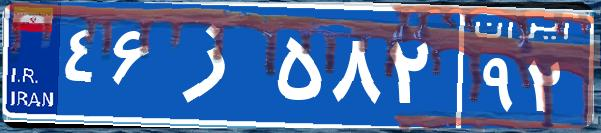2: (385, 28, 445, 110), (525, 38, 570, 115)
4: (57, 26, 110, 107)
5: (273, 28, 330, 110)
6: (110, 28, 158, 105)
8: (330, 28, 385, 110)
9: (475, 38, 525, 113)
ز: (158, 15, 273, 115)
